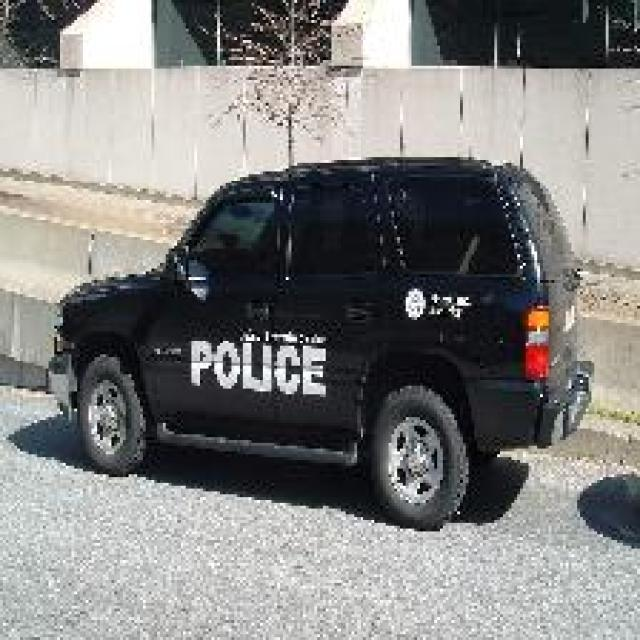Police-car: (46, 152, 594, 528)
